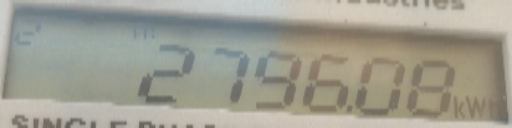0: (355, 46, 410, 119)
2: (139, 26, 194, 99)
6: (302, 43, 357, 116)
7: (201, 37, 256, 110)
8: (407, 55, 462, 128)
9: (251, 40, 306, 113)
d: (344, 97, 355, 115)
